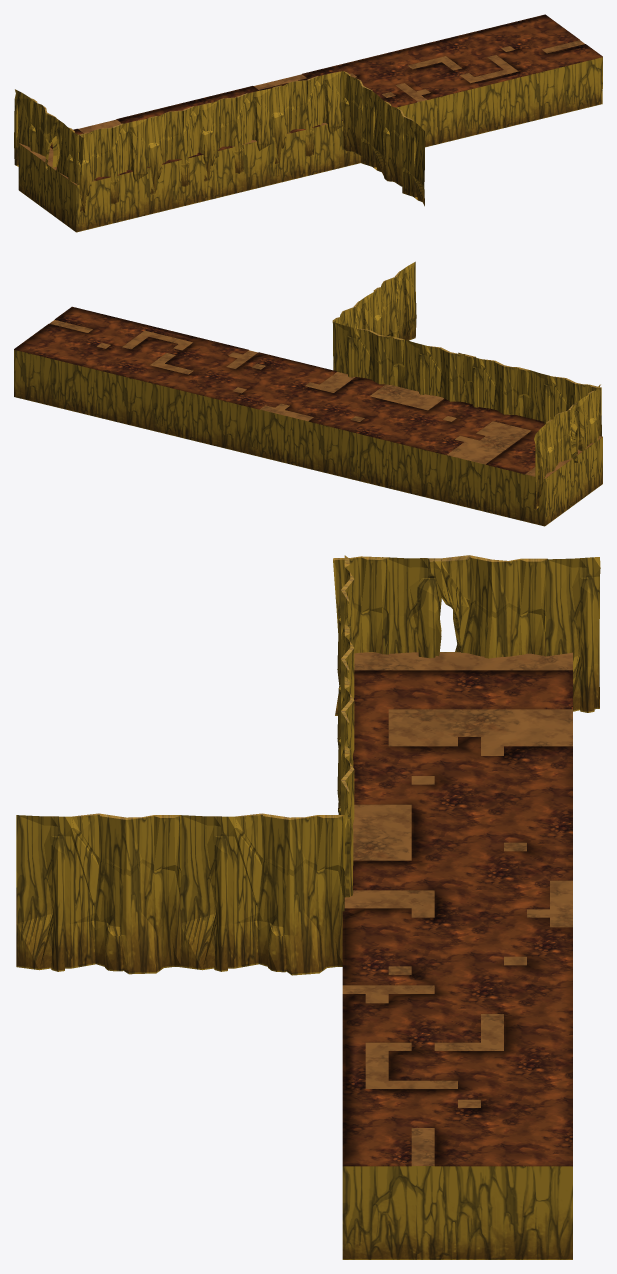
File: cave 2.FBX
3 renders of one model, top to bottom at view 1: azimuth 30°, elevation 25°; view 2: azimuth 150°, elevation 25°; view 3: azimuth 270°, elevation 25°, orthographic. The views are drawn at different scales.
Parts seen in each view (by area): view 1: Object050; view 2: Object050; view 3: Object050.
Boxes of the visible parts, x1=… form: Object050: x1=14, y1=14, x2=602, y2=232; Object050: x1=14, y1=261, x2=602, y2=526; Object050: x1=16, y1=555, x2=600, y2=1259.
Size of the model in its own units: 5009 by 868 by 2393.
